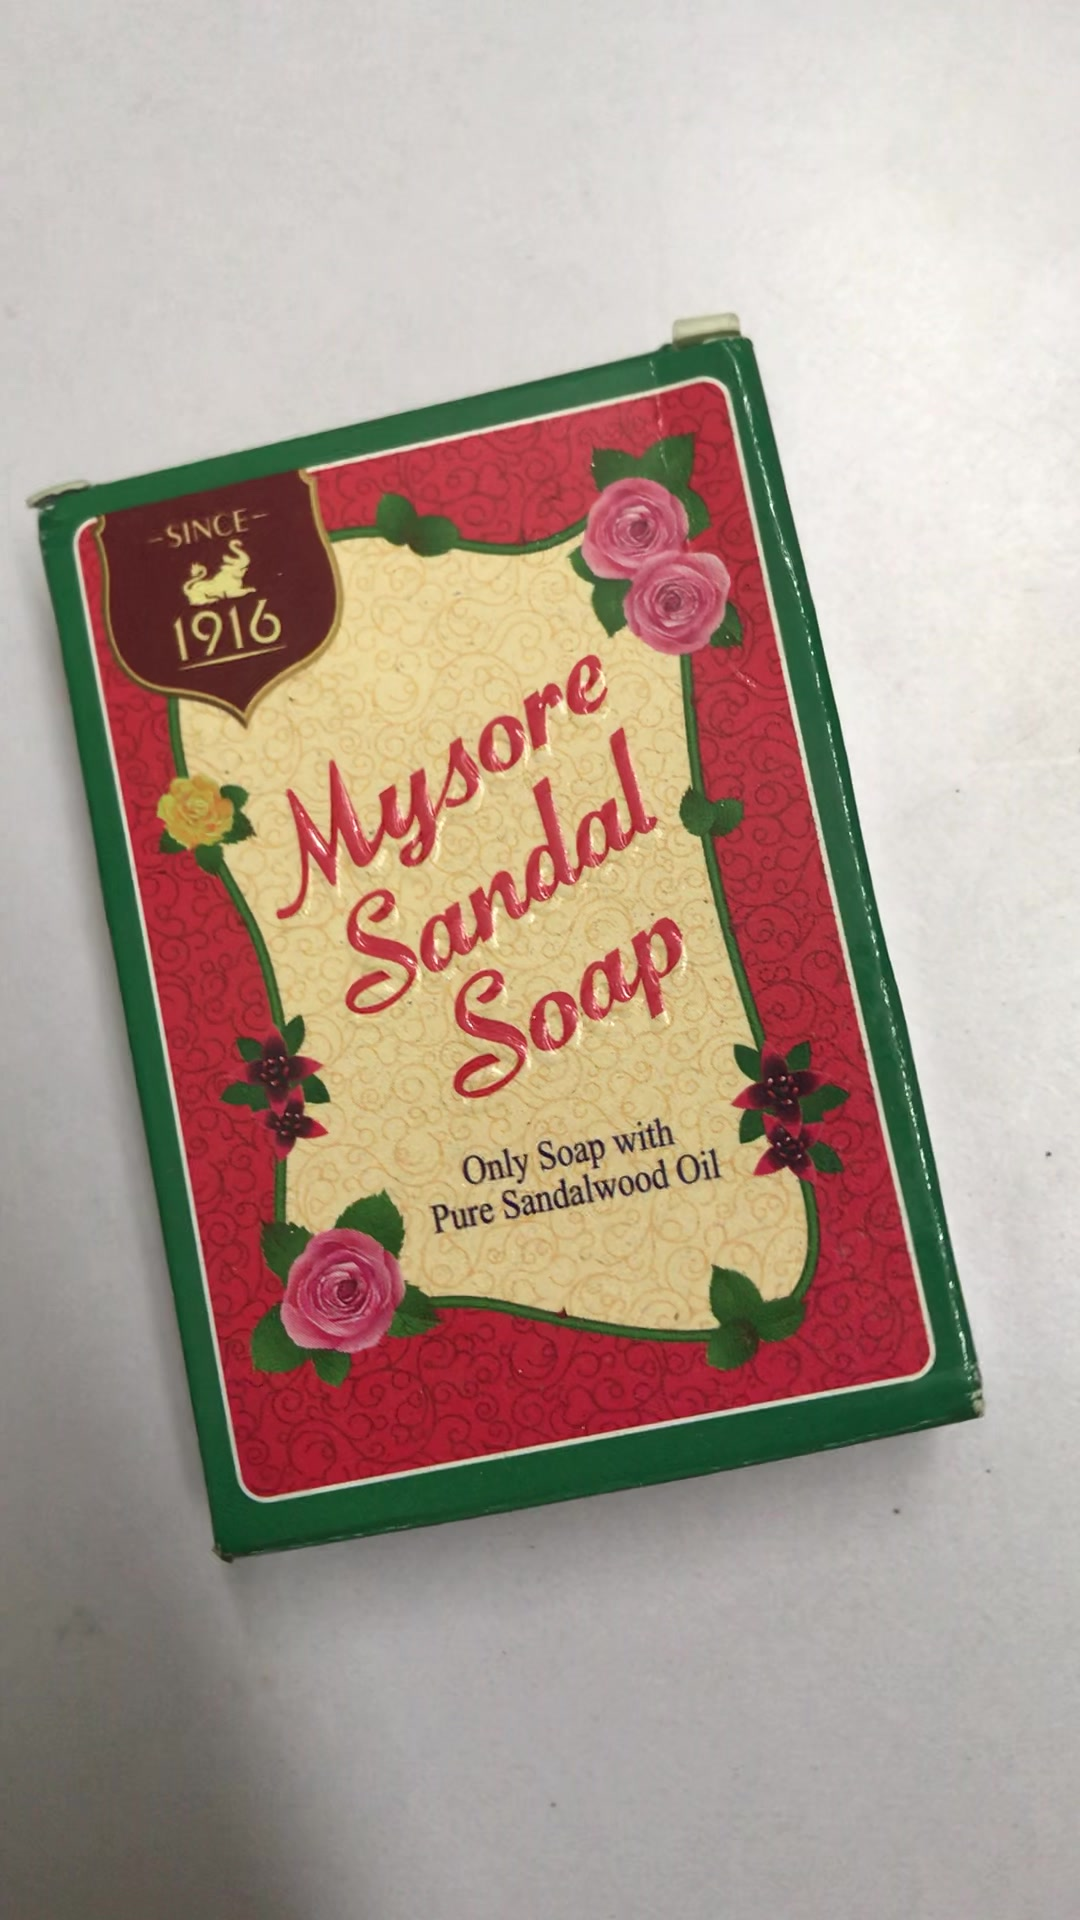mysore sandal soap: (30, 331, 986, 1567)
